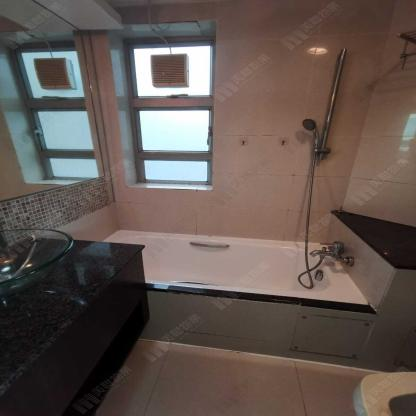Bathtub: (100, 229, 378, 369)
Exhaust Fan: (149, 54, 190, 88)
Toilet Sink: (0, 228, 74, 298)
